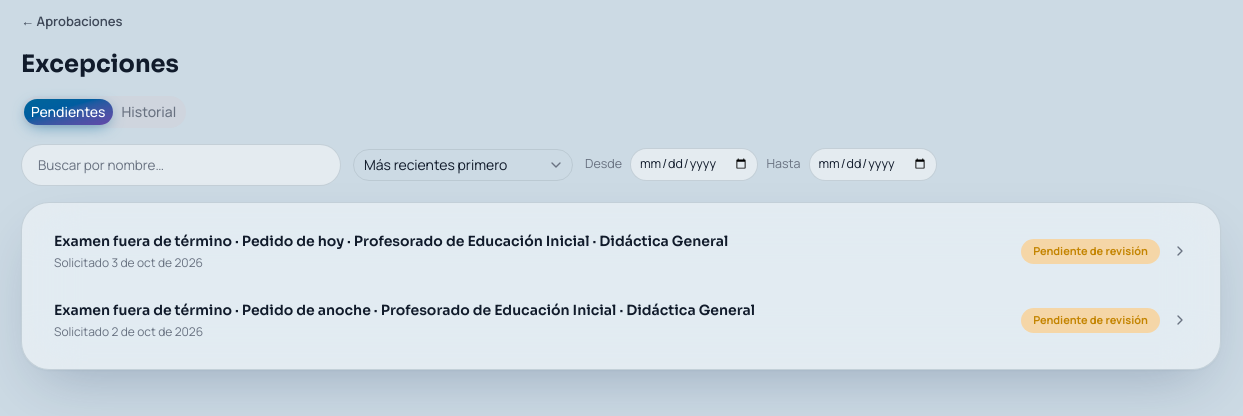
Test: DirectorAprobacionesExcepciones › filters "Desde" by the local day, not by UTC midnight
Expected: the text "Pedido de anoche" is shown, [242, 301, 371, 319]
In the date field labelled "Desde": (694,165) [630, 148, 758, 181], type "2026-10-03"
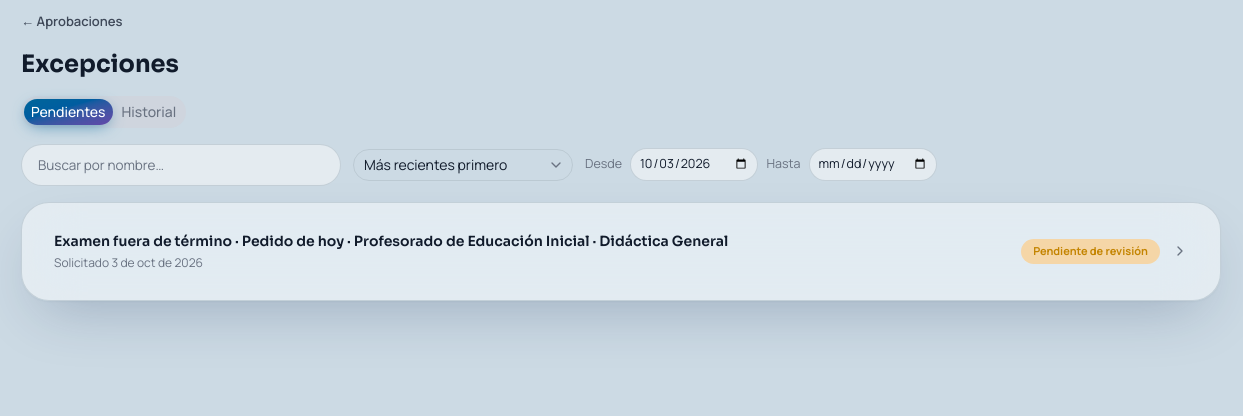
Expected: the text "Pedido de hoy" is shown, [242, 232, 344, 250]
Expected: the link "Pedido de anoche" is gone
